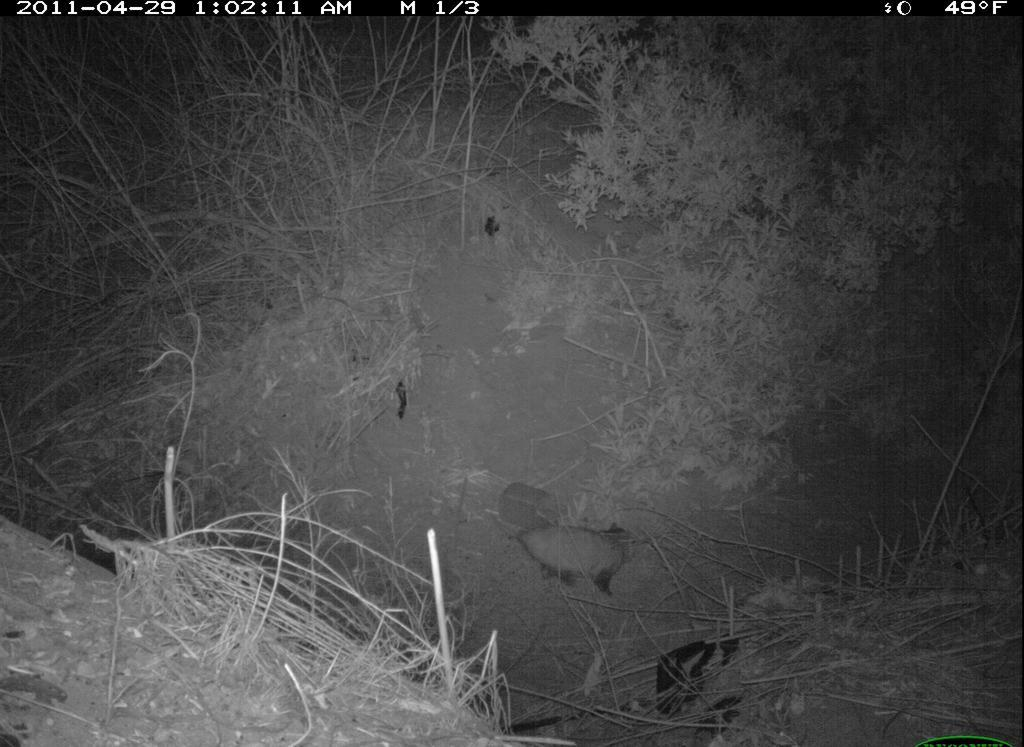opossum: (510, 509, 653, 615)
